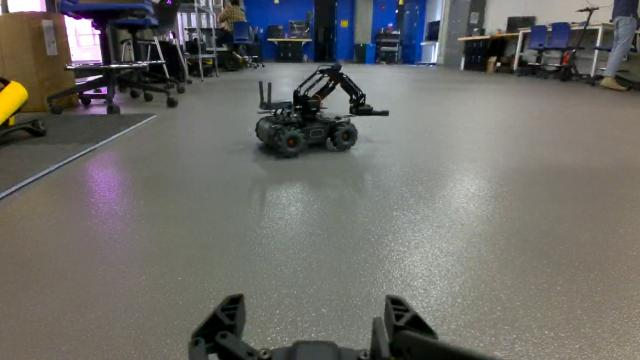robot: (254, 58, 392, 163)
